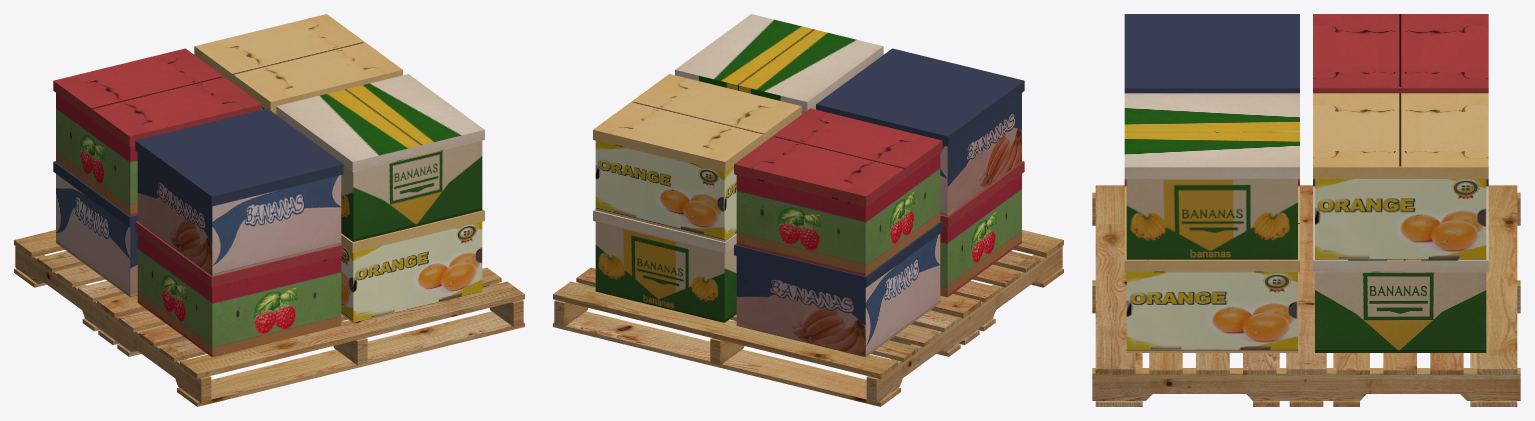
Rendered from Cardboard_boxGroup01a.glb.
The picture shows the model from 3 angles, left to right: view 1: azimuth 30°, elevation 25°; view 2: azimuth 150°, elevation 25°; view 3: azimuth 270°, elevation 25°; orthographic projection. The views are drawn at different scales.
Visible parts, largest first — view 1: Cardboard_boxGroup01a1, Cardboard_boxGroup01a2, Cardboard_boxG; view 2: Cardboard_boxGroup01a1, Cardboard_boxGroup01a2, Cardboard_boxG; view 3: Cardboard_boxGroup01a2, Cardboard_boxG, Cardboard_boxGroup01a1.
Boxes of the visible parts, x1,y1,x2,y2 form: Cardboard_boxGroup01a1: (53,48,343,357); Cardboard_boxGroup01a2: (194,14,484,322); Cardboard_boxG: (14,230,524,406); Cardboard_boxGroup01a1: (734,48,1024,357); Cardboard_boxGroup01a2: (593,14,883,322); Cardboard_boxG: (553,230,1063,406); Cardboard_boxGroup01a2: (1124,93,1488,352); Cardboard_boxG: (1092,185,1520,406); Cardboard_boxGroup01a1: (1124,14,1488,186).
Bounding box in the file's own units: 2.16 × 1.23 × 2.12.
3 materials, 3 textured.
